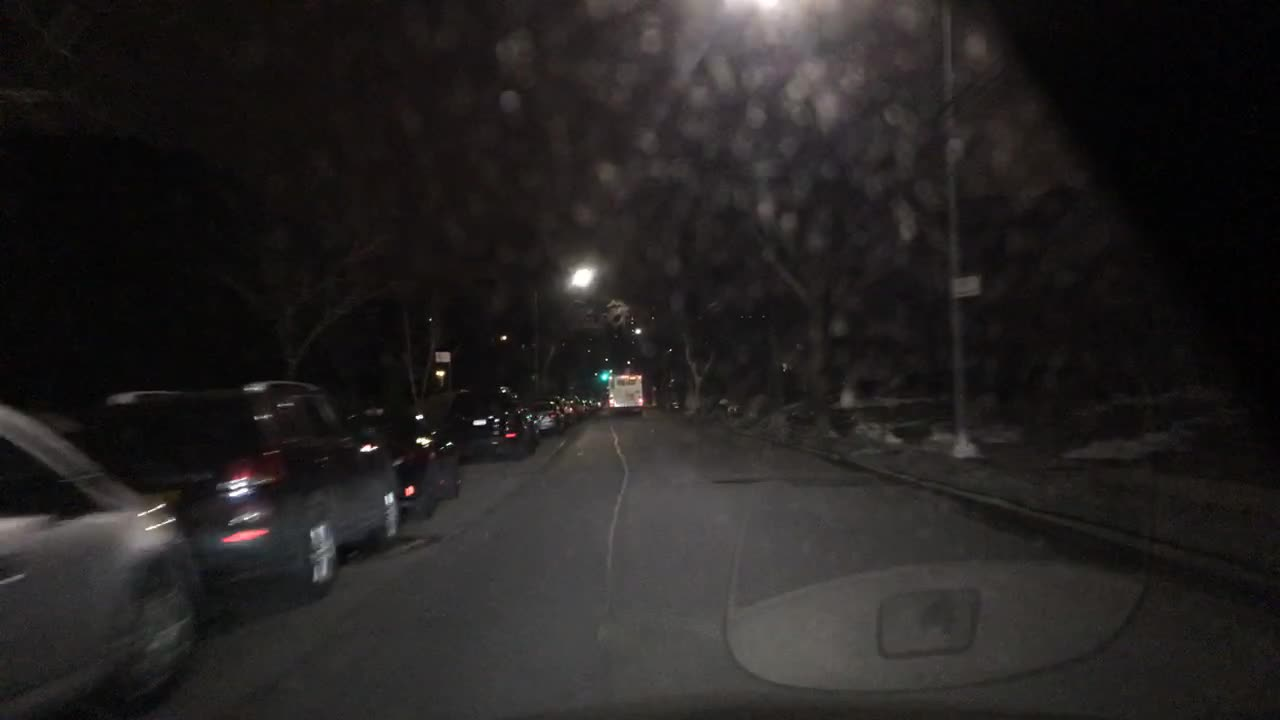bus: (607, 374, 646, 416)
car: (0, 399, 209, 718), (88, 379, 401, 590), (341, 398, 470, 520), (441, 381, 541, 462), (531, 400, 571, 431), (546, 394, 578, 421), (568, 393, 591, 417), (583, 396, 602, 410)
traffic light: (598, 368, 610, 380)
traffic sign: (950, 275, 985, 300), (432, 351, 451, 363)
